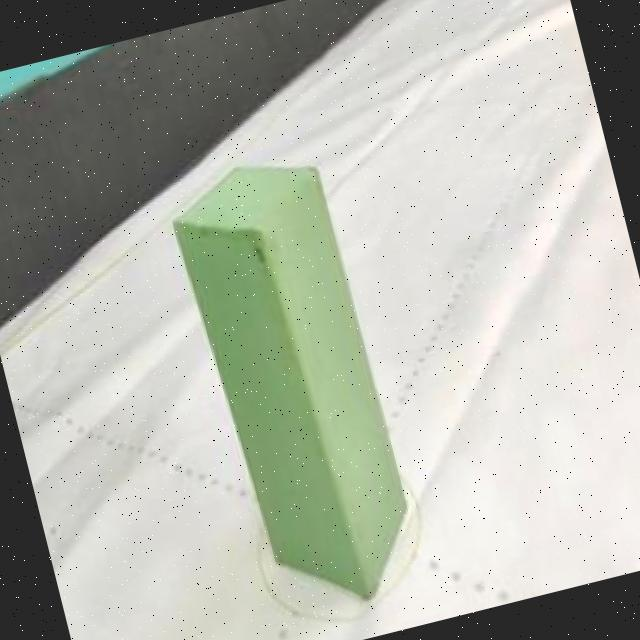greenbox: (160, 143, 427, 626)
